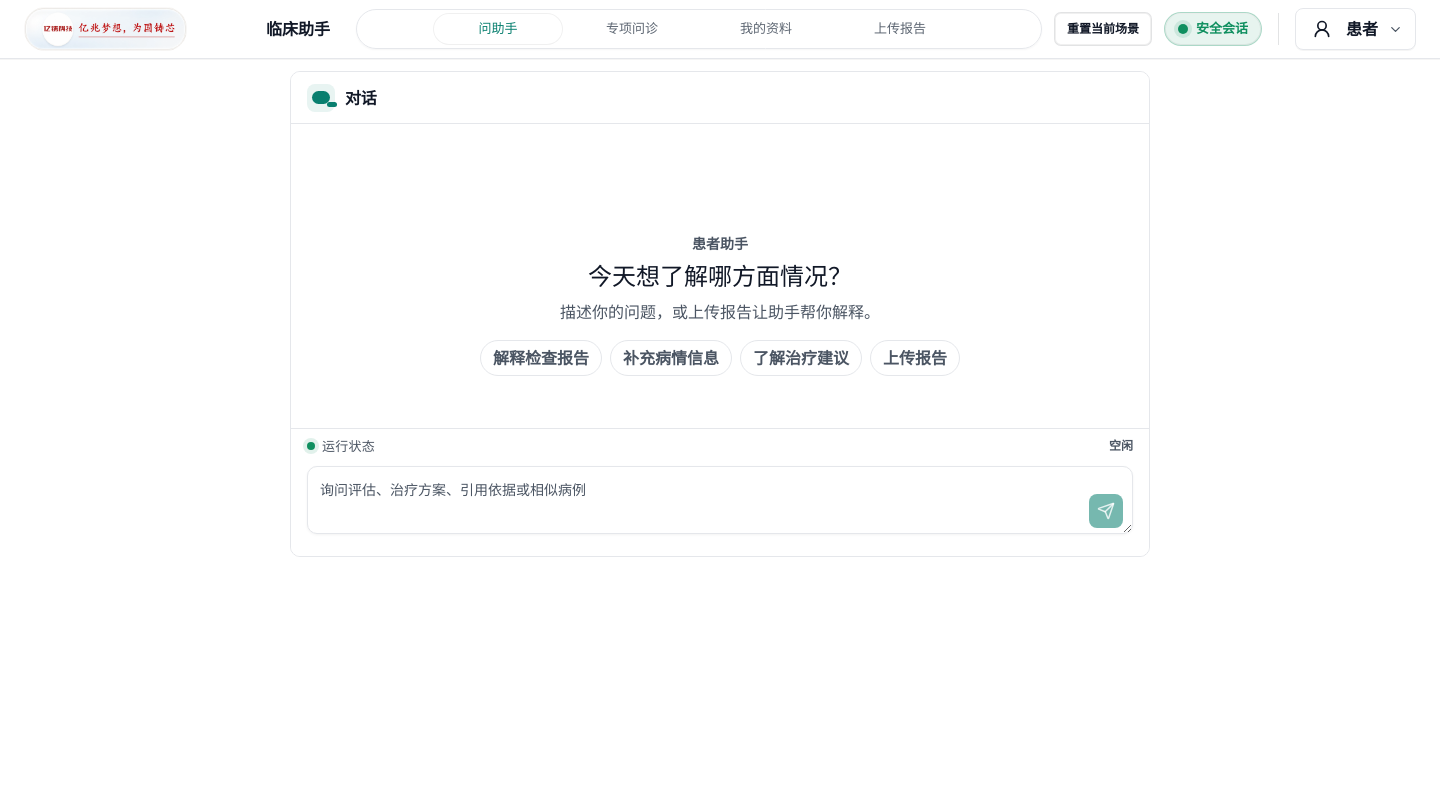
Test: WorkspacePage patient triage submission wiring › opens the agent admin surface without changing the active graph scene
The image size is (1440, 810).
Step 1. Click the button with aria-label "切换工作台，当前为患者" → (1356, 29), box [1295,8,1416,50]
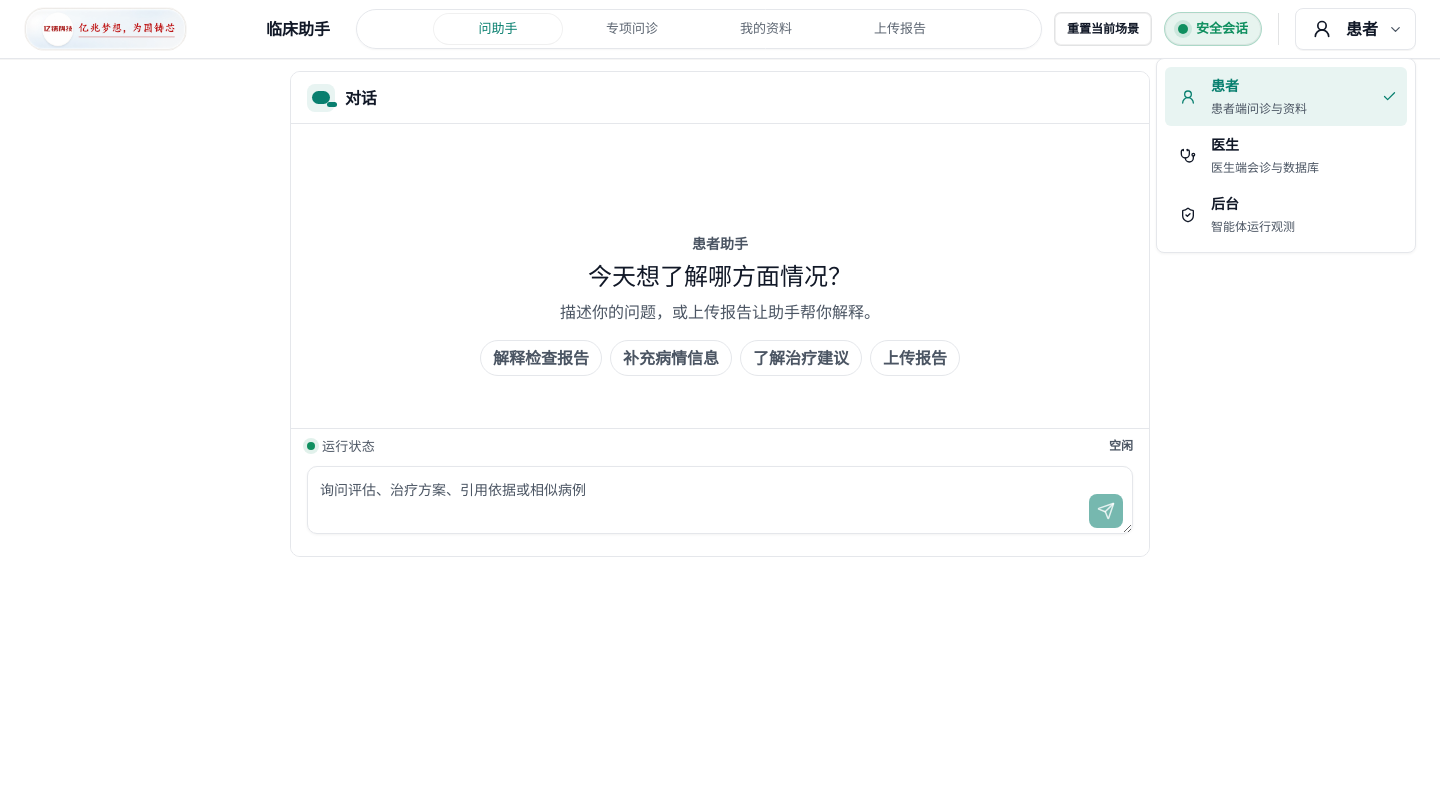
Step 2. Click the menu item "后台 智能体运行观测" → (1286, 214), box [1165,185,1407,244]
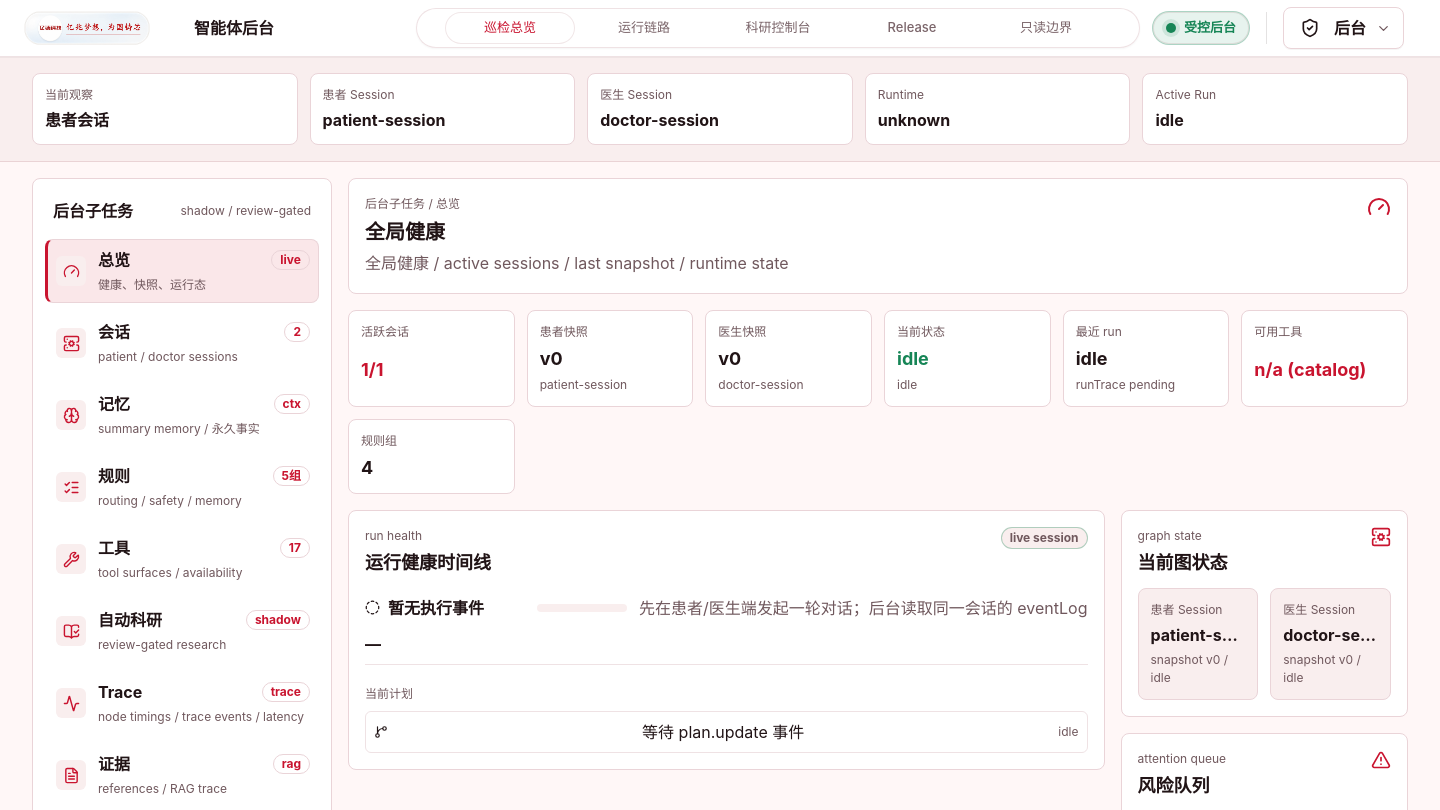
Check: the header shows "智能体后台", box [194,18,274,38]
